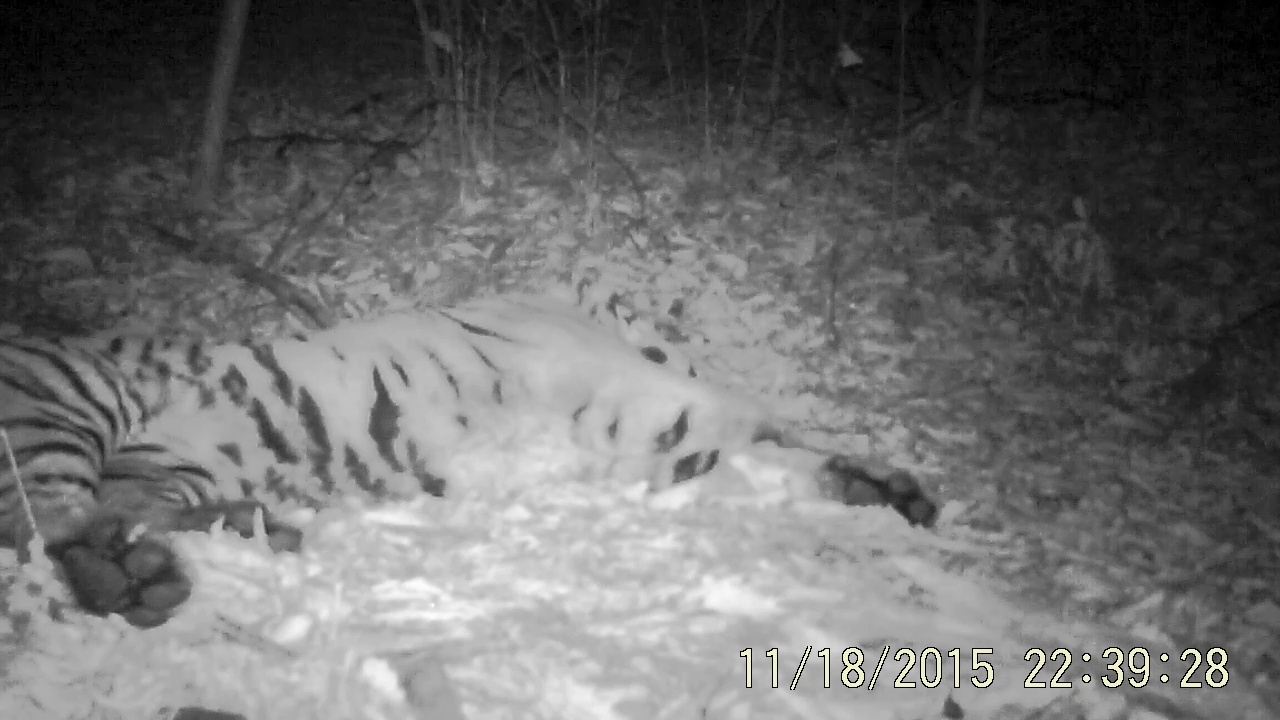Tiger: (3, 114, 1062, 625)
